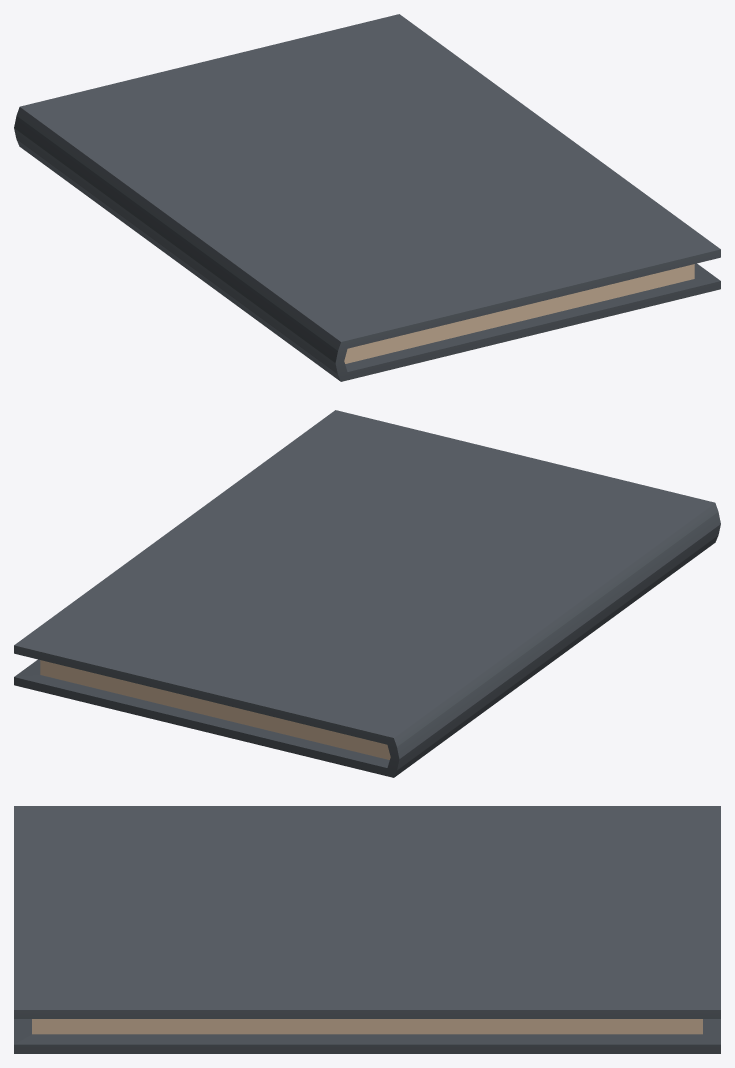
Rendered from Book_10.fbx.
3 views of the same model, one above another, from view 1: azimuth 30°, elevation 25°; view 2: azimuth 150°, elevation 25°; view 3: azimuth 270°, elevation 25° (orthographic). The views are drawn at different scales.
Visible parts, largest first — view 1: Book_10; view 2: Book_10; view 3: Book_10.
Boxes of the visible parts, x1,y1,x2,y2 form: Book_10: [14, 14, 720, 381]; Book_10: [14, 410, 720, 777]; Book_10: [14, 806, 720, 1053].
Bounding box in the file's own units: 18.46 × 1.83 × 26.67.
